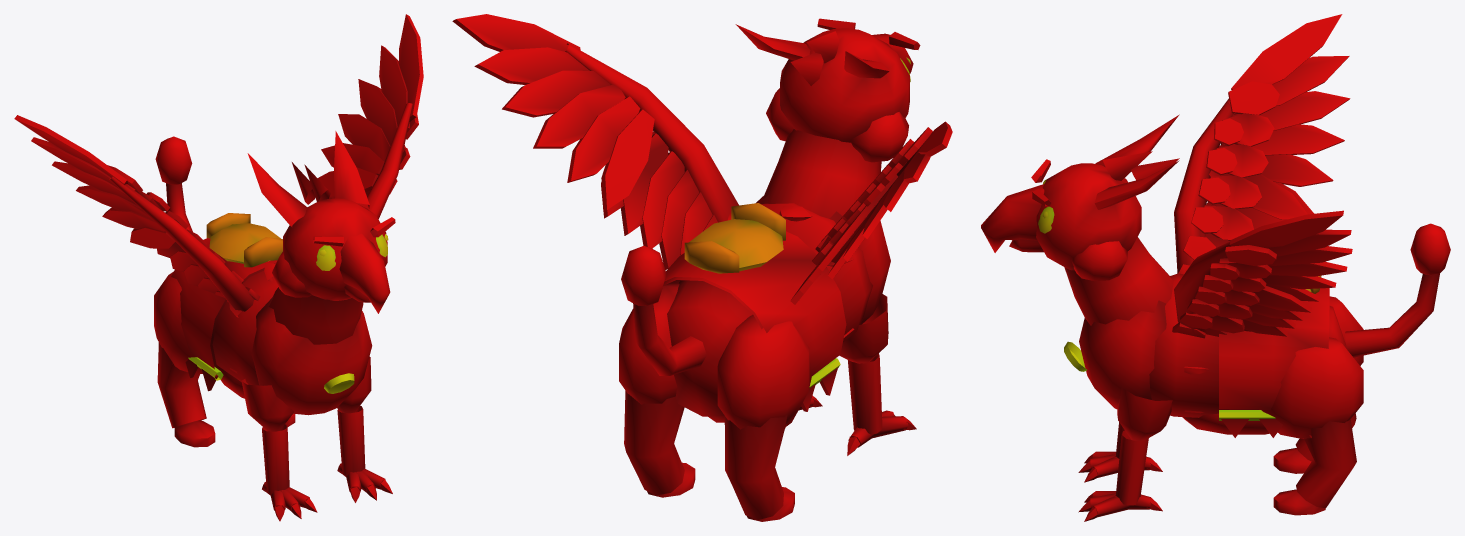
File: Griffin.glb
3 views of the same model, side by side, from view 1: azimuth 30°, elevation 25°; view 2: azimuth 150°, elevation 25°; view 3: azimuth 270°, elevation 25° (orthographic). The views are drawn at different scales.
Parts seen in each view (by area): view 1: Griffin; view 2: Griffin; view 3: Griffin.
Part boxes in pixels (x1,y1,x2,y2): Griffin: (14, 14, 423, 521); Griffin: (452, 14, 952, 521); Griffin: (981, 14, 1450, 521).
Bounding box in the file's own units: 2.26 × 1.95 × 2.18.
